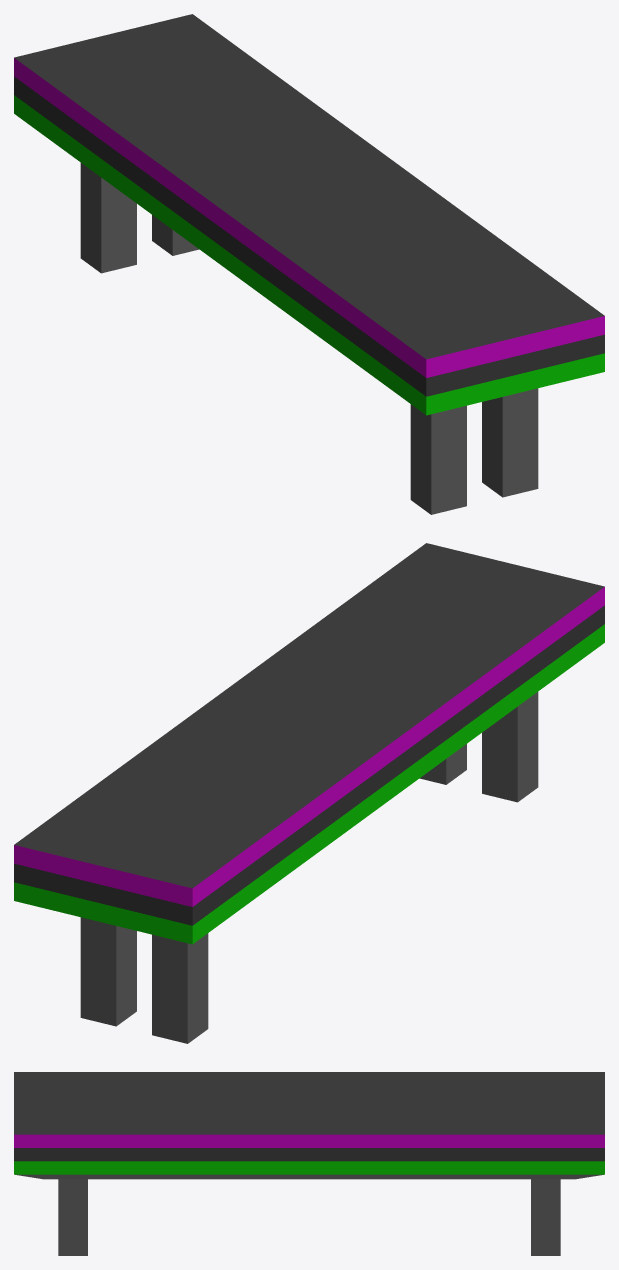
The model's file is Bench.fbx.
The picture shows the model from 3 angles, top to bottom: view 1: azimuth 30°, elevation 25°; view 2: azimuth 150°, elevation 25°; view 3: azimuth 270°, elevation 25°; orthographic projection. The views are drawn at different scales.
Parts seen in each view (by area): view 1: Bench; view 2: Bench; view 3: Bench.
Part boxes in pixels (x1,y1,x2,y2): Bench: (14, 14, 604, 514); Bench: (14, 543, 604, 1043); Bench: (14, 1072, 604, 1255).
Bounding box in the file's own units: 500 × 500 × 2000.
